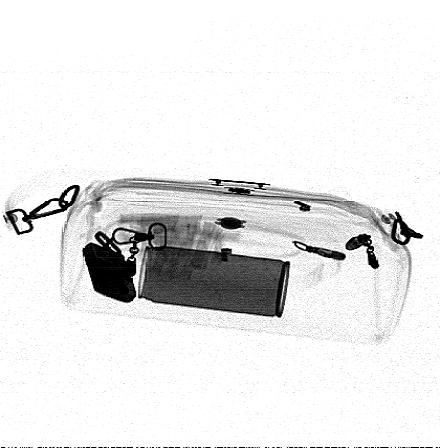Lighter: (82, 242, 137, 303)
